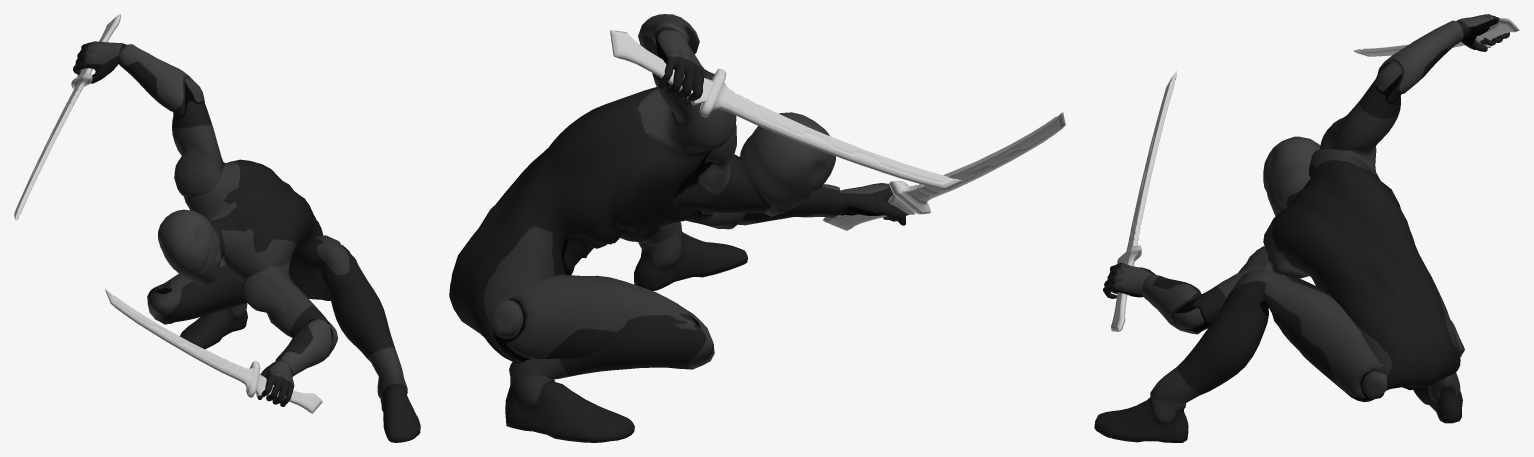
3 renders of one model, left to right at view 1: azimuth 30°, elevation 25°; view 2: azimuth 150°, elevation 25°; view 3: azimuth 270°, elevation 25°, orthographic. The views are drawn at different scales.
Parts seen in each view (by area): view 1: Cyborg_Ninja_Killer, Sword_l, Sword_l001; view 2: Cyborg_Ninja_Killer, Sword_l001, Sword_l; view 3: Cyborg_Ninja_Killer, Sword_l, Sword_l001.
Boxes of the visible parts, x1=… form: Cyborg_Ninja_Killer: x1=73, y1=41, x2=420, y2=442; Sword_l: x1=105, y1=289, x2=322, y2=413; Sword_l001: x1=14, y1=14, x2=120, y2=220; Cyborg_Ninja_Killer: x1=449, y1=14, x2=908, y2=442; Sword_l001: x1=610, y1=30, x2=963, y2=189; Sword_l: x1=822, y1=112, x2=1065, y2=230; Cyborg_Ninja_Killer: x1=1094, y1=14, x2=1509, y2=442; Sword_l: x1=1111, y1=71, x2=1176, y2=331; Sword_l001: x1=1353, y1=18, x2=1519, y2=56.
Size of the model in its own units: 125 by 113 by 123.
